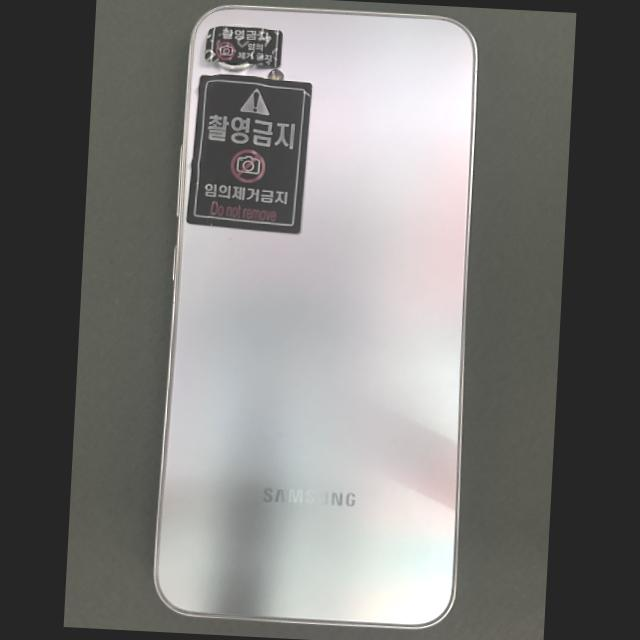lens: (216, 62, 251, 69)
phone: (153, 4, 478, 629)
sticker: (186, 74, 313, 235), (205, 26, 283, 67)
